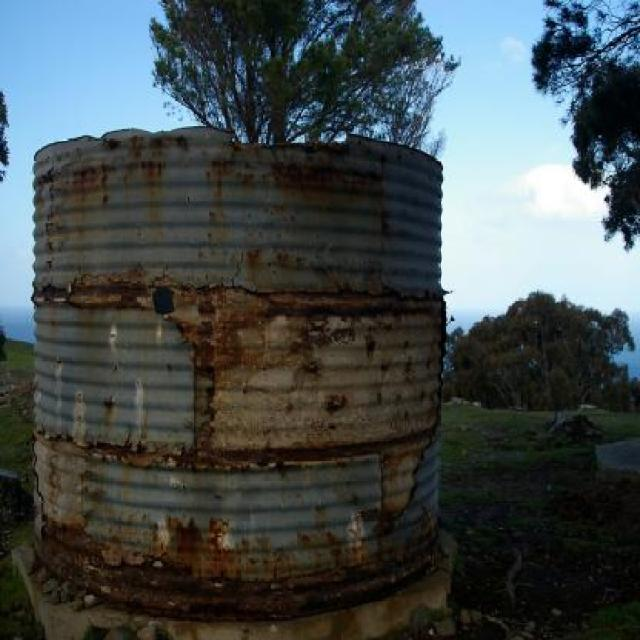corrosion: (29, 127, 449, 611)
